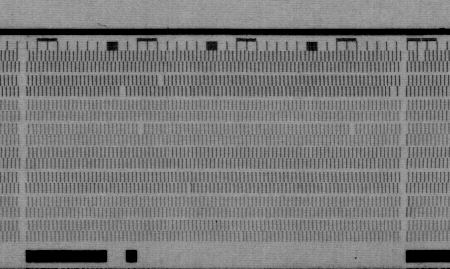Broken hole: (346, 123, 359, 136), (155, 73, 167, 87), (135, 123, 147, 136), (117, 84, 129, 97), (388, 86, 399, 100), (416, 49, 427, 63)
Oblique printing: (184, 183, 197, 196)
